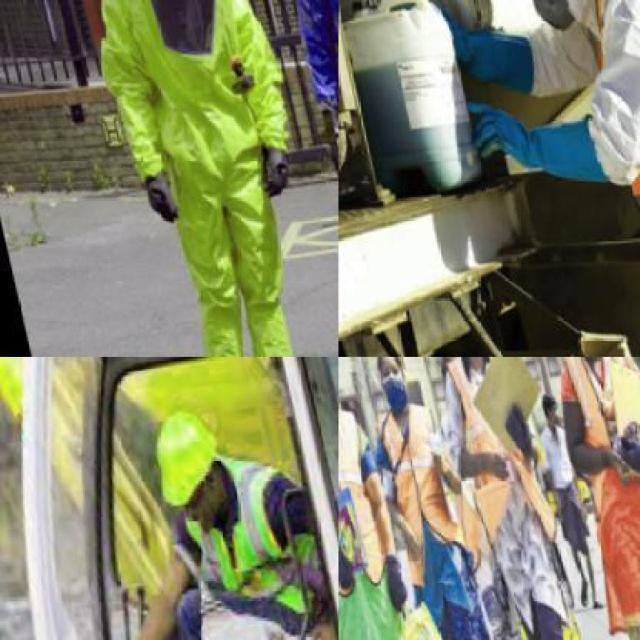Vest: (97, 0, 331, 355), (158, 457, 330, 640), (544, 0, 638, 306), (434, 357, 555, 563), (362, 400, 460, 580), (543, 357, 639, 488), (338, 403, 384, 600)
